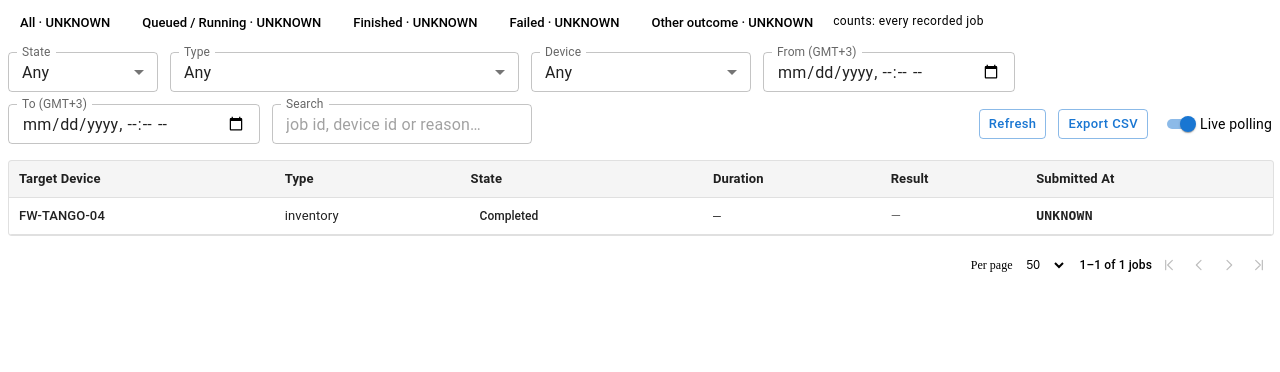
Test: shows the recorded device name without its identifier in the main row
The width and height of the screenshot is (1280, 372).
Expected: the text "opaque-001" is not shown
Click the text "FW-TANGO-04".
click(641, 216)  # box [9, 198, 1273, 234]
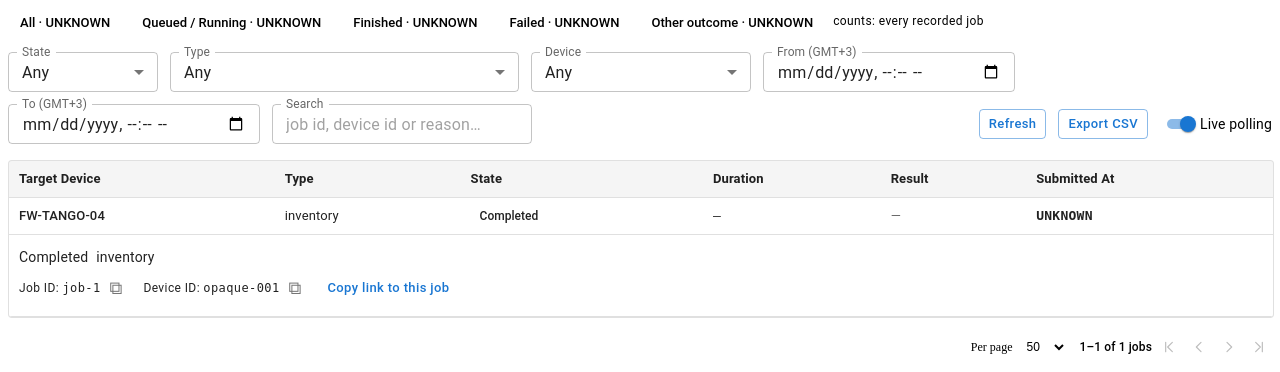
Expected: the text "1–1 of 1 jobs" is shown, [1080, 339, 1152, 355]
Expected: the text "opaque-001" is shown, [203, 281, 280, 295]
